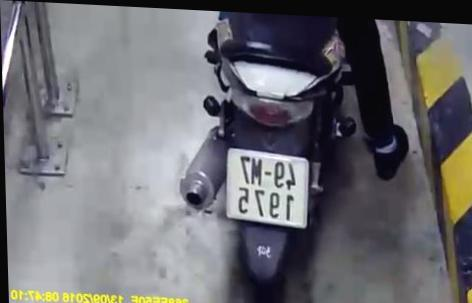License_Plate: (213, 145, 321, 231)
